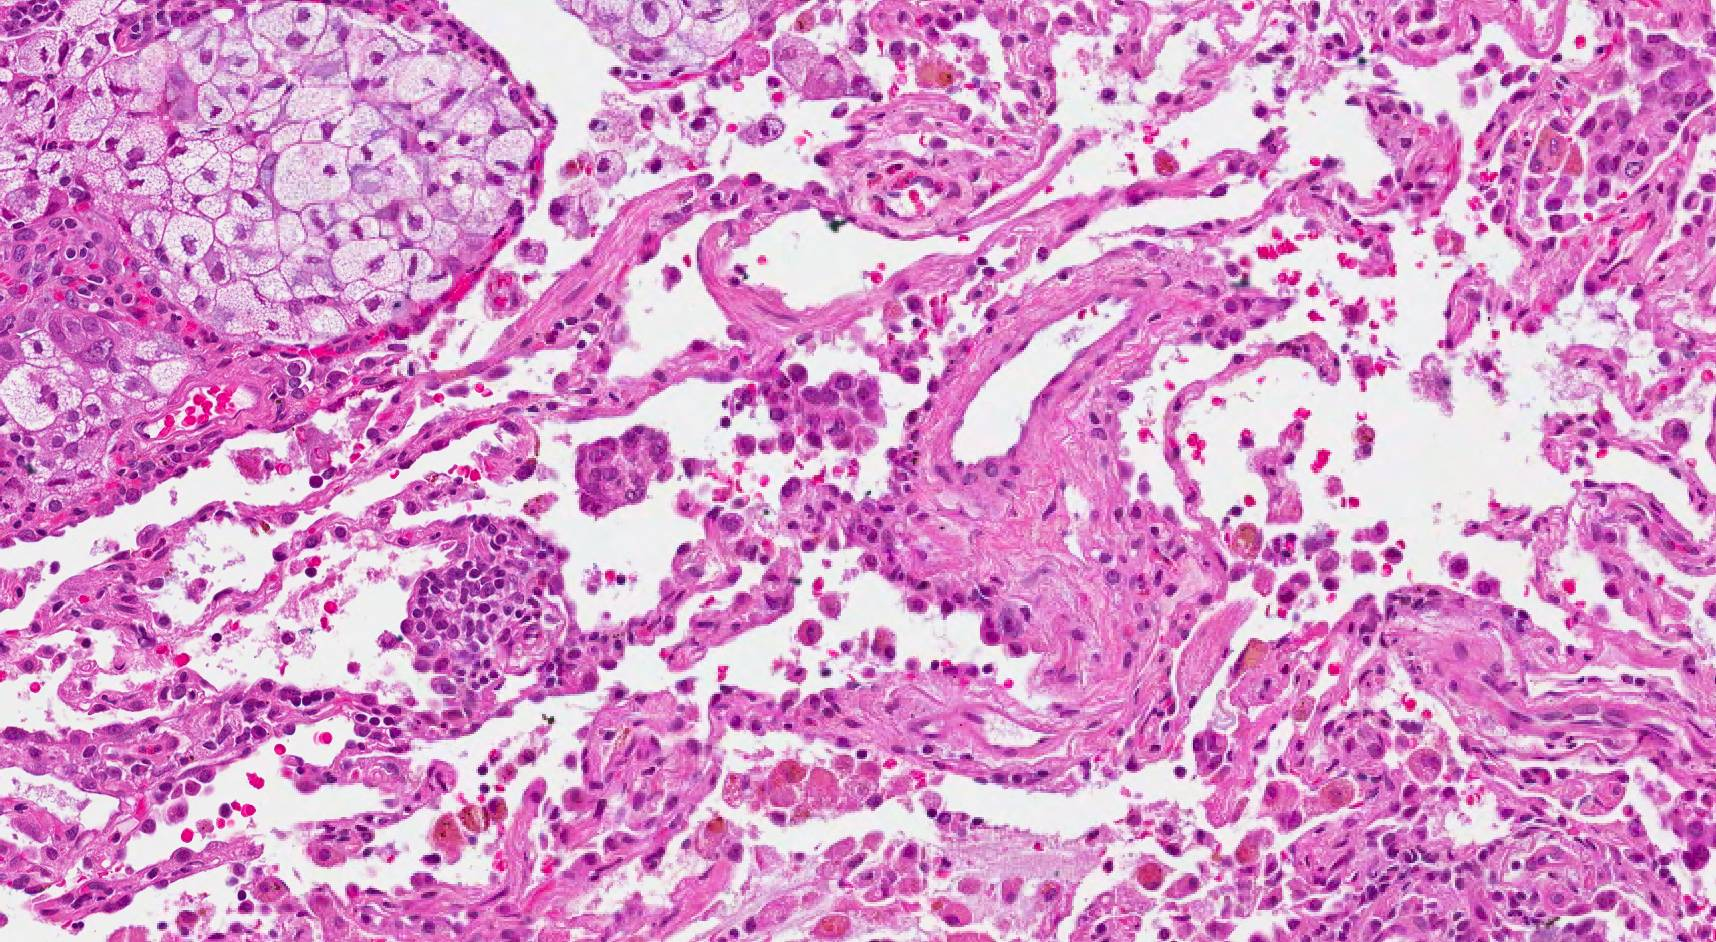stas: (1569, 28, 1712, 212), (756, 362, 887, 459), (574, 423, 672, 517), (1191, 727, 1231, 778)
